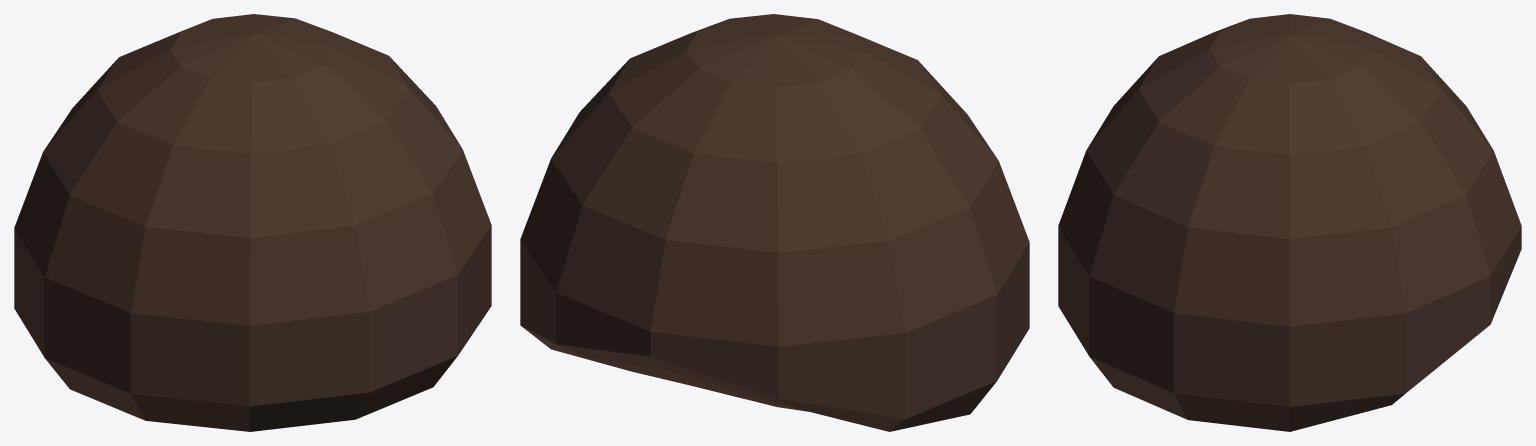
The model's file is customer_hair_whole.glb.
3 views of the same model, side by side, from view 1: azimuth 30°, elevation 25°; view 2: azimuth 150°, elevation 25°; view 3: azimuth 270°, elevation 25° (orthographic). The views are drawn at different scales.
Visible parts, largest first — view 1: customer_hair_whole_0; view 2: customer_hair_whole_0; view 3: customer_hair_whole_0.
Boxes of the visible parts, bbox=[...] form: customer_hair_whole_0: bbox=[14, 14, 491, 431]; customer_hair_whole_0: bbox=[520, 14, 1029, 431]; customer_hair_whole_0: bbox=[1058, 14, 1521, 431].
Bounding box in the file's own units: 0.3644 × 0.2593 × 0.3534.
